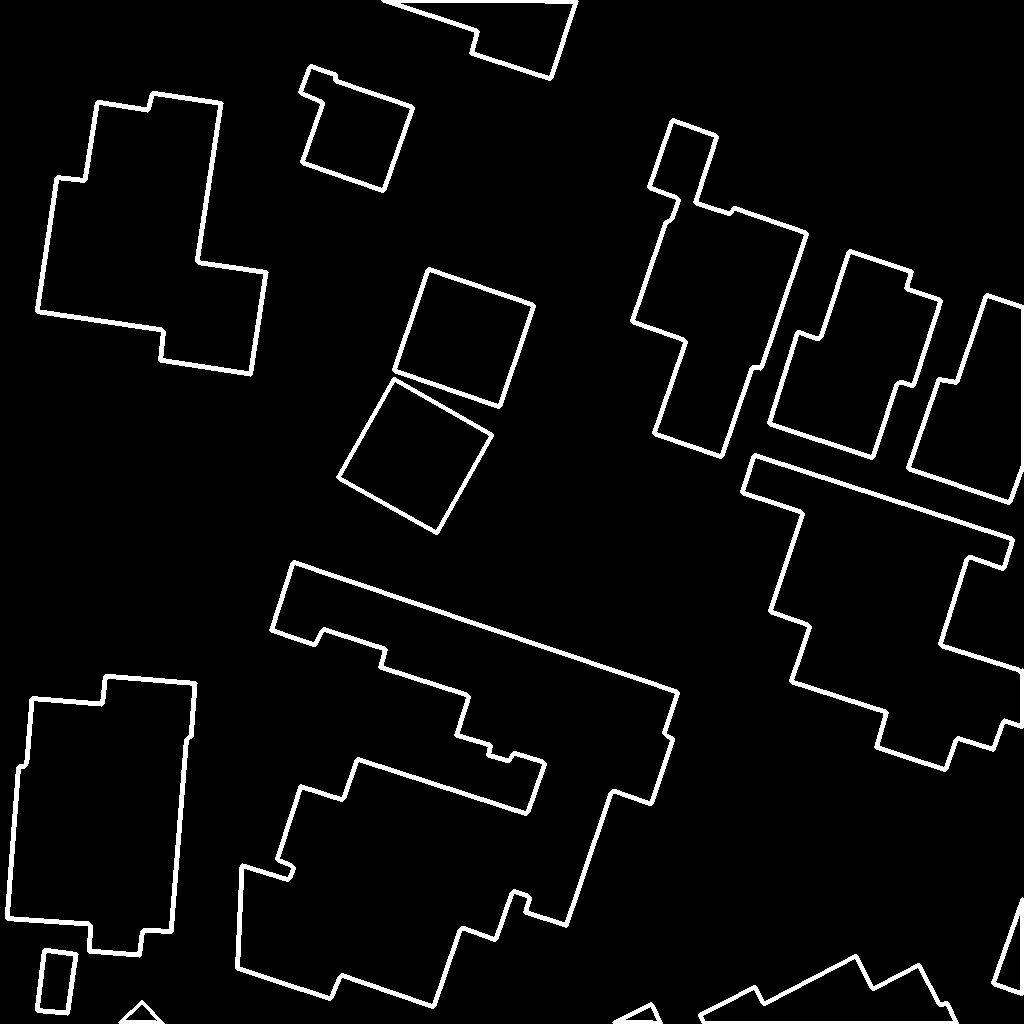building: (237, 562, 679, 1008), (742, 455, 1022, 771), (37, 93, 267, 375), (632, 120, 808, 458), (7, 676, 196, 956), (769, 251, 942, 459), (908, 295, 1024, 504), (338, 379, 493, 534), (394, 269, 535, 408), (700, 956, 958, 1024), (382, 0, 578, 80), (300, 66, 414, 192), (993, 898, 1024, 995), (37, 950, 77, 1014), (1004, 669, 1024, 728), (120, 1002, 164, 1024), (614, 1004, 662, 1024)
